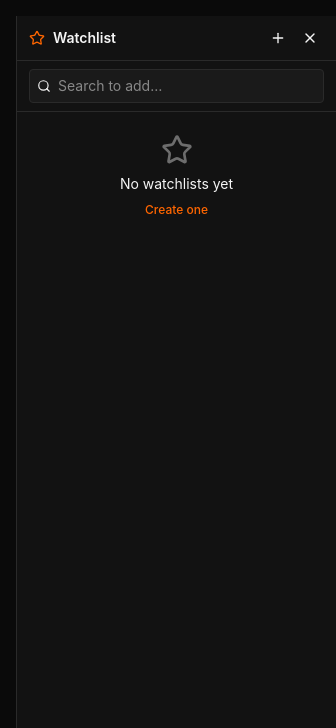
Scenario: empty state › clicking "Create one" shows the new-list input
The width and height of the screenshot is (336, 728).
Click the button "Create one". click: (176, 210)
box: left=145, top=202, right=208, bottom=218
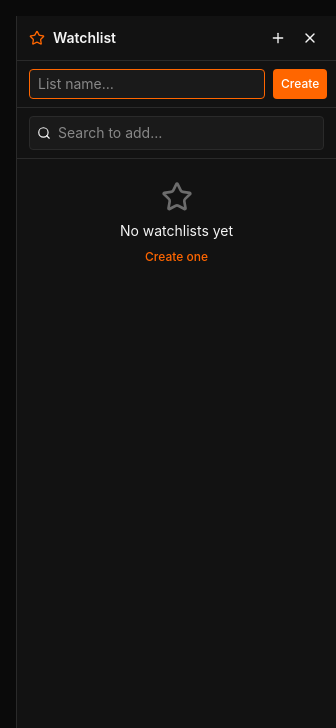
Check: the field with placeholder "List name…" is shown, box left=29, top=69, right=265, bottom=99
